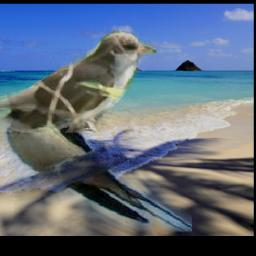Cuckoo: (0, 31, 156, 133)
Swallow: (5, 95, 193, 231)
